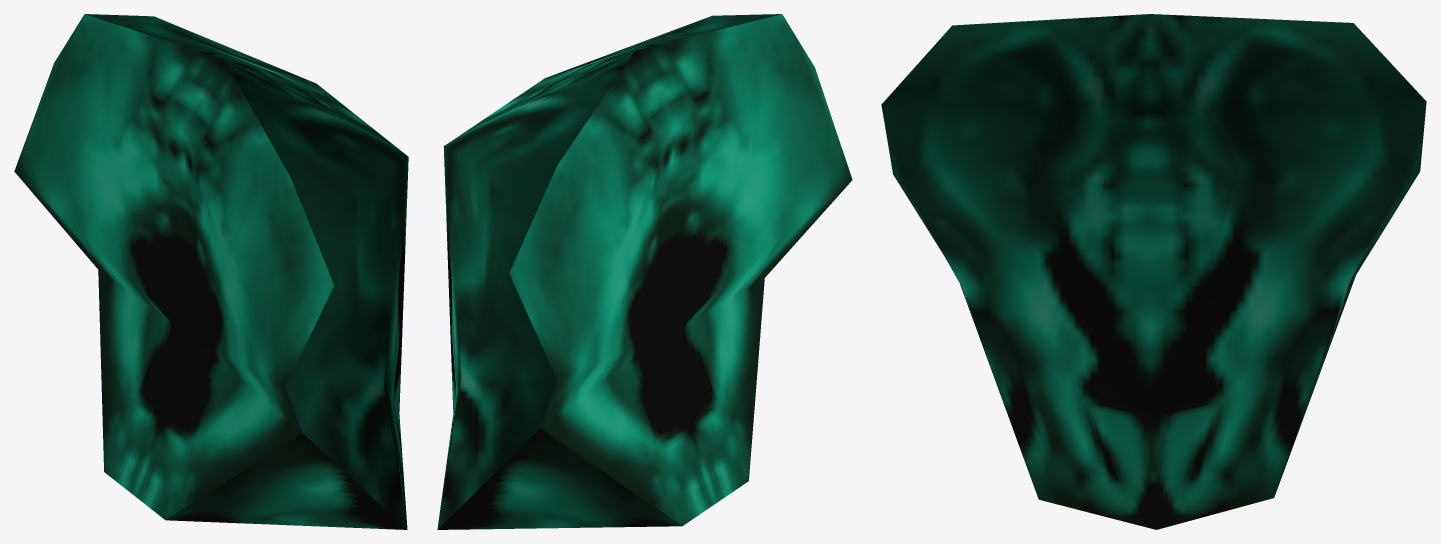
File: VIFS15.obj
The picture shows the model from 3 angles, left to right: view 1: azimuth 30°, elevation 25°; view 2: azimuth 150°, elevation 25°; view 3: azimuth 270°, elevation 25°; orthographic projection. The views are drawn at different scales.
Parts seen in each view (by area): view 1: VIFS15; view 2: VIFS15; view 3: VIFS15.
Part boxes in pixels (x1,y1,x2,y2): VIFS15: (14, 14, 408, 529); VIFS15: (437, 14, 852, 529); VIFS15: (881, 14, 1426, 529).
Bounding box in the file's own units: 6.49 × 11.52 × 12.44.
